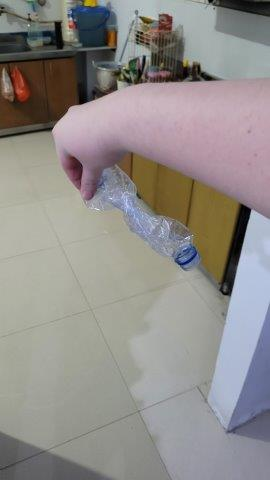botolplastik: (66, 154, 204, 272)
